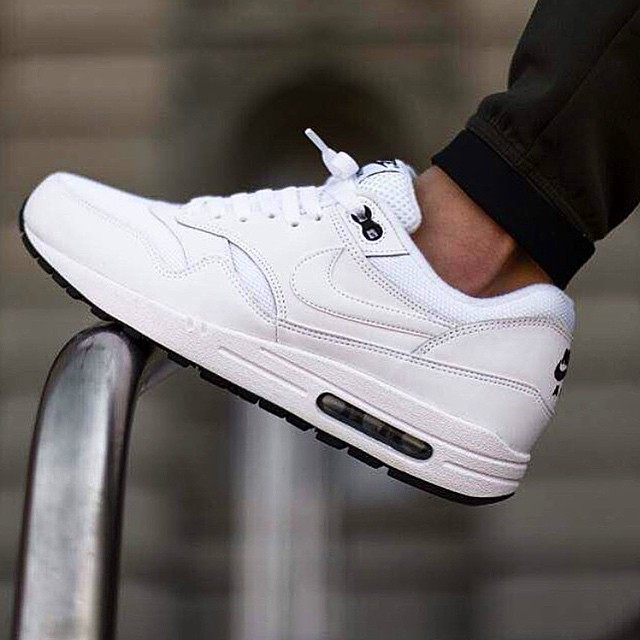sneaker: (2, 84, 619, 538)
